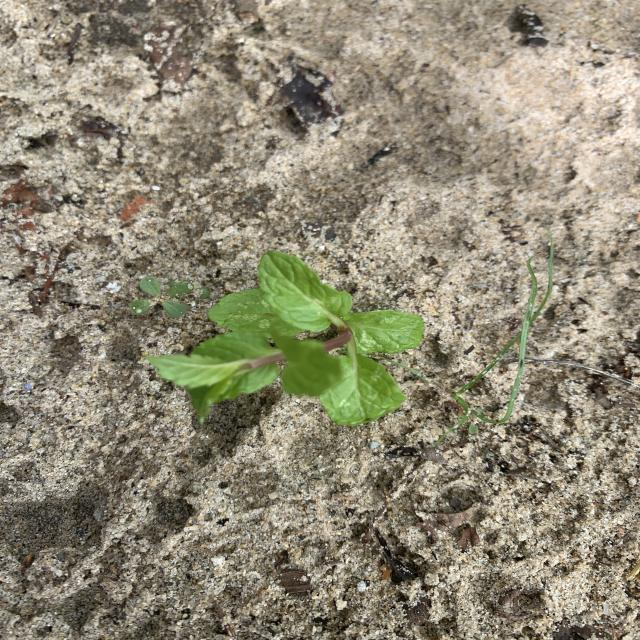crop: (151, 251, 423, 426)
weed: (498, 226, 554, 424), (433, 338, 516, 446), (130, 276, 193, 318)
